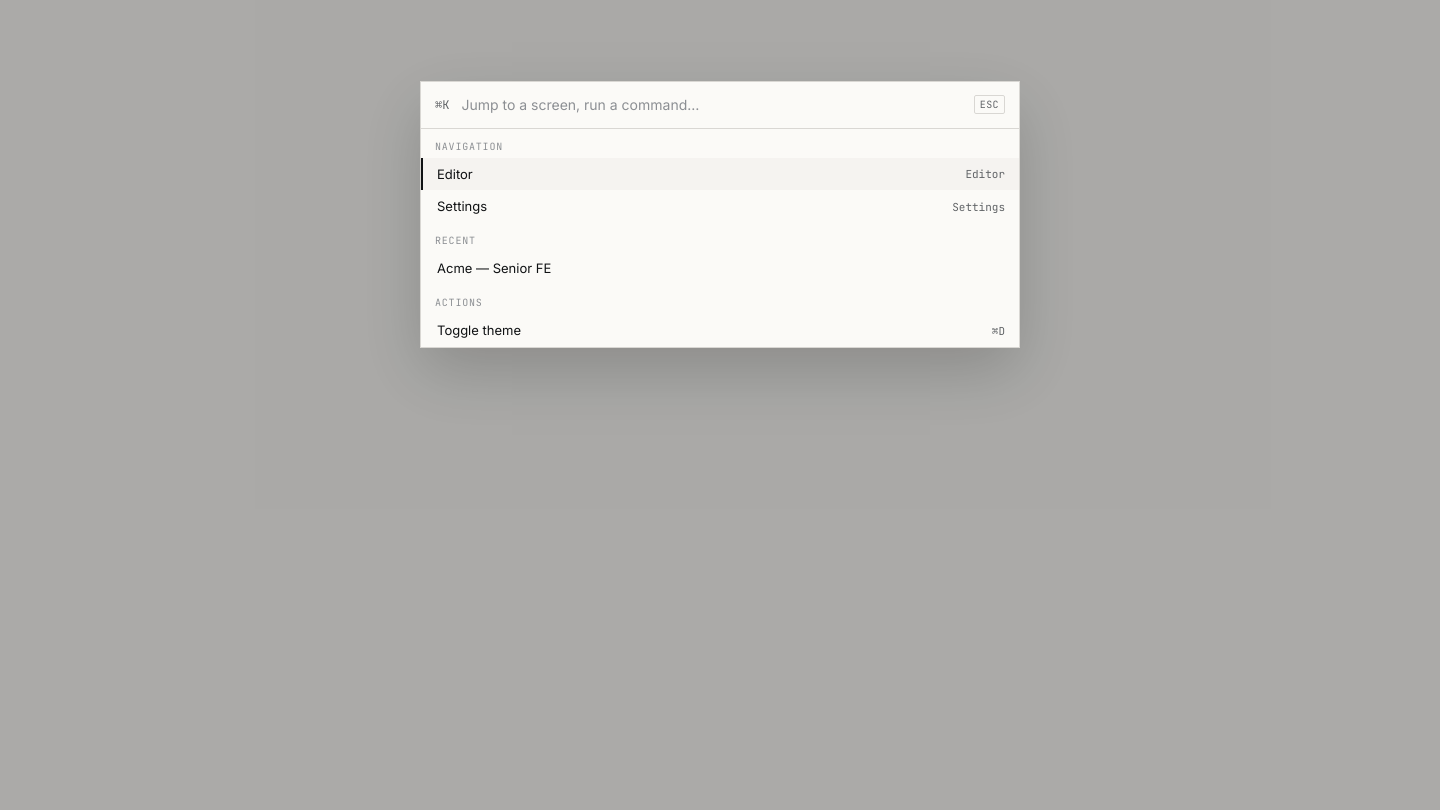
Test: group header hides when its group has no remaining items after filter
In the field named "search commands": point(712, 105) x1=459 y1=94 x2=964 y2=116, type "theme"
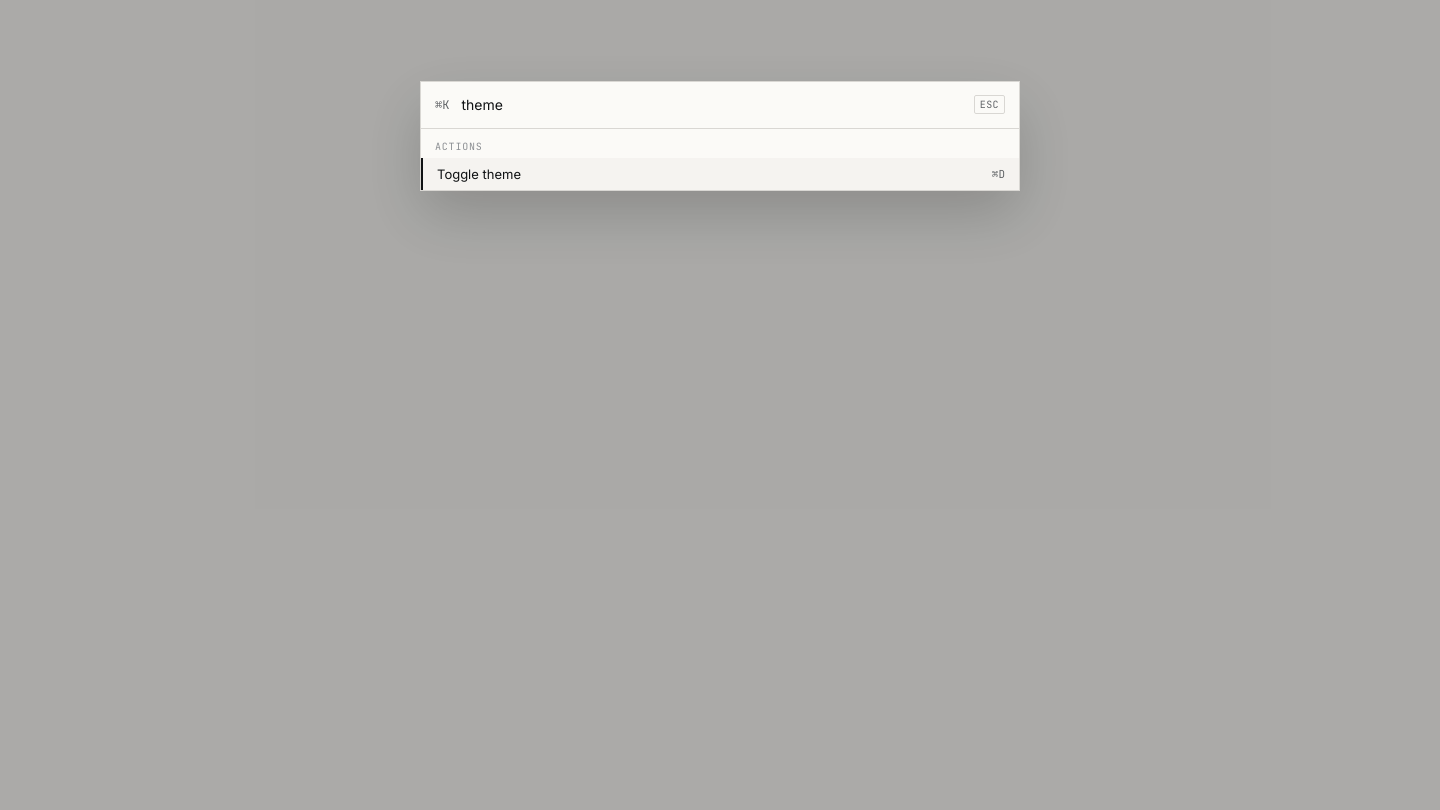
Expected: the text "Actions" is shown, x1=435 y1=140 x2=483 y2=153
Expected: the text "Navigation" is gone
Expected: the text "Recent" is gone
